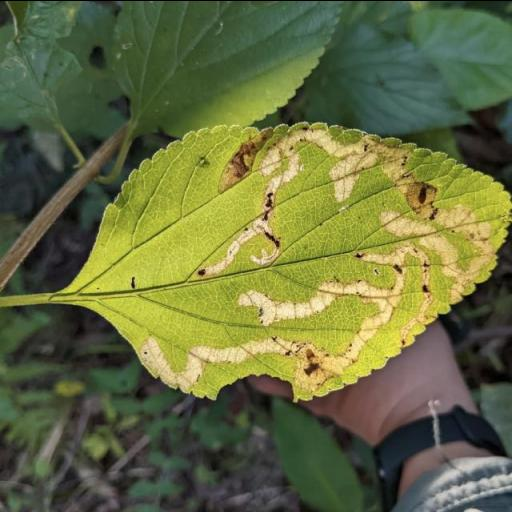Leaf Miner: (78, 120, 512, 402)
